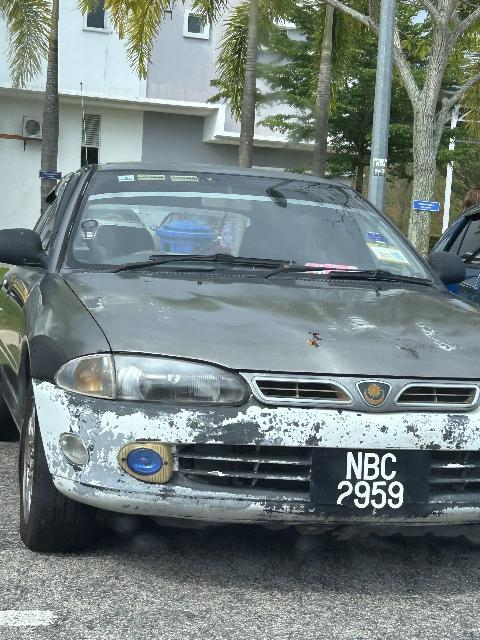License_Plate: (310, 449, 432, 515)
NBC2959: (310, 449, 432, 515)
car: (3, 154, 480, 558)
